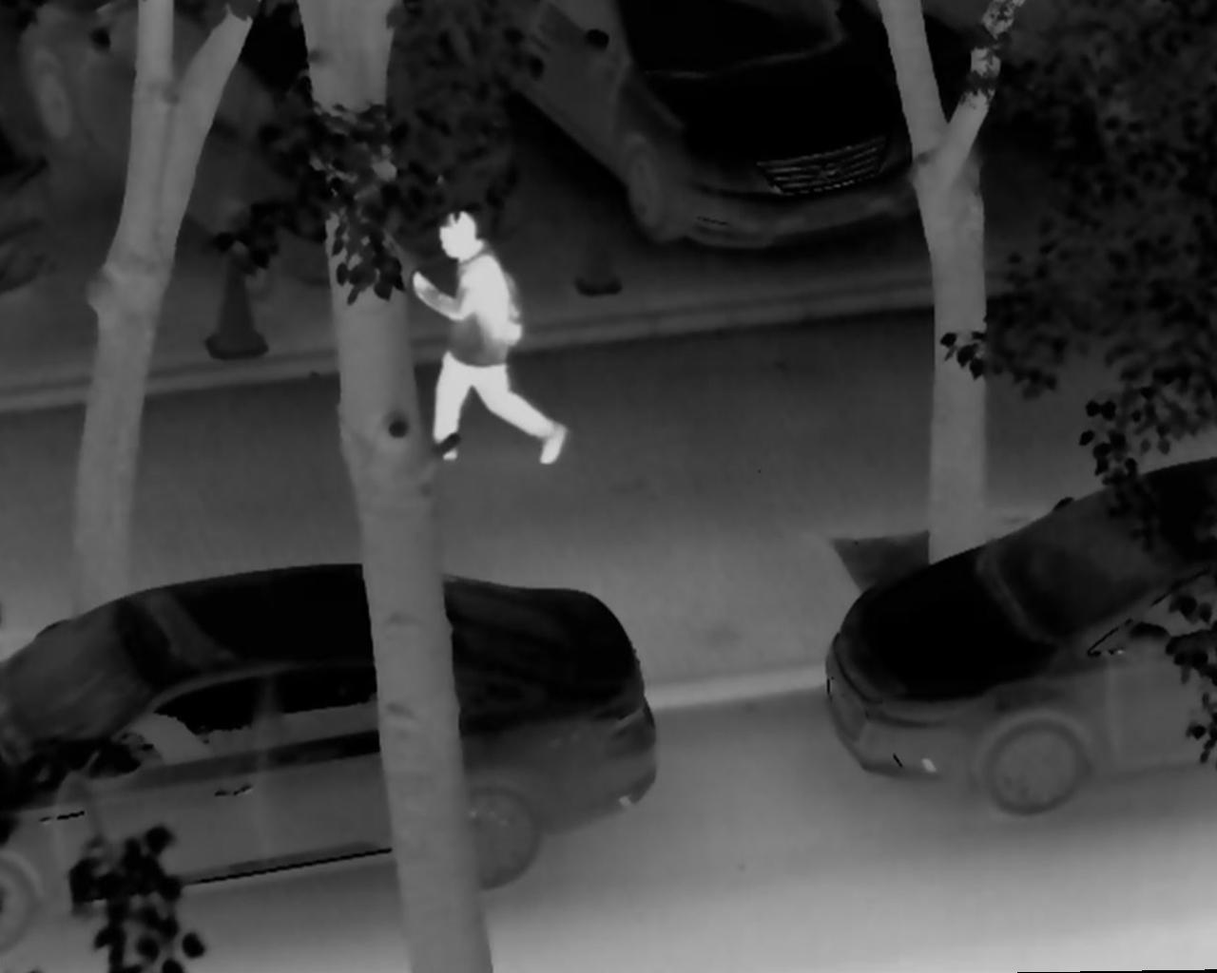person: (395, 207, 564, 476)
